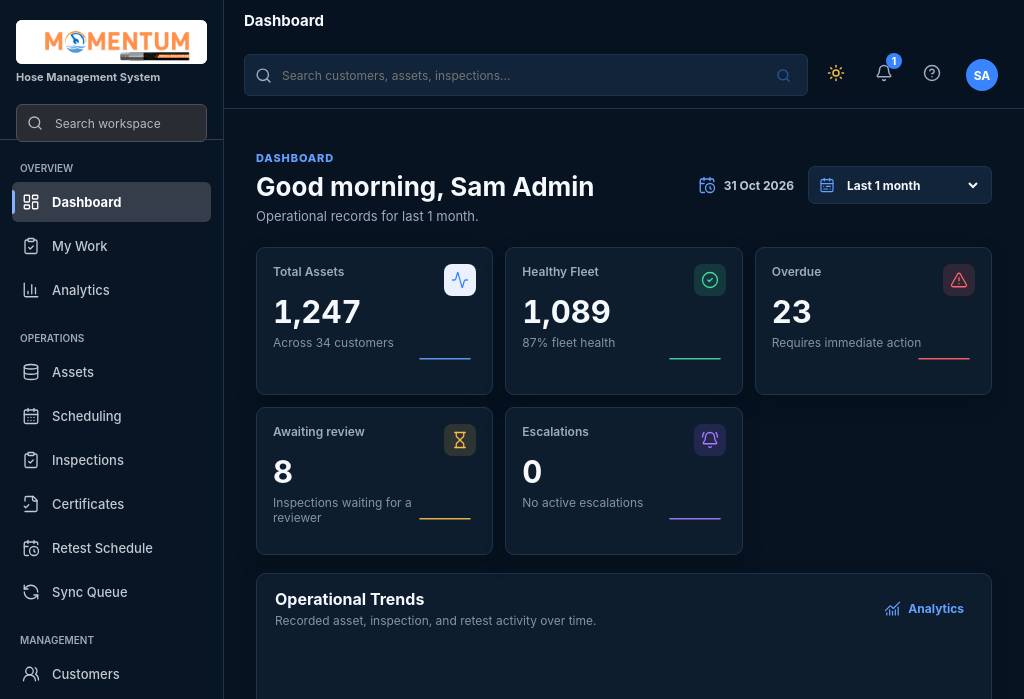
Test case: App › marks a selected notification read before opening its linked asset workspace
Click the button named "Notifications" at (884, 75), box [864,54,904,96]
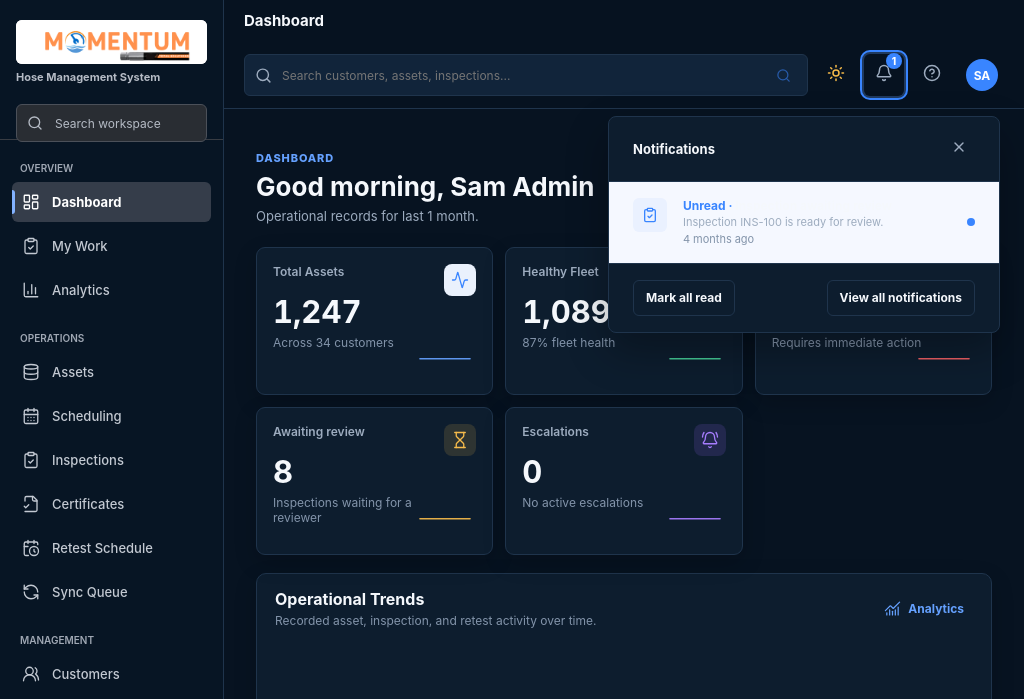
Click the button with aria-label "Open unread notification Inspection awaiting review" at (804, 222), box [609,182,999,263]
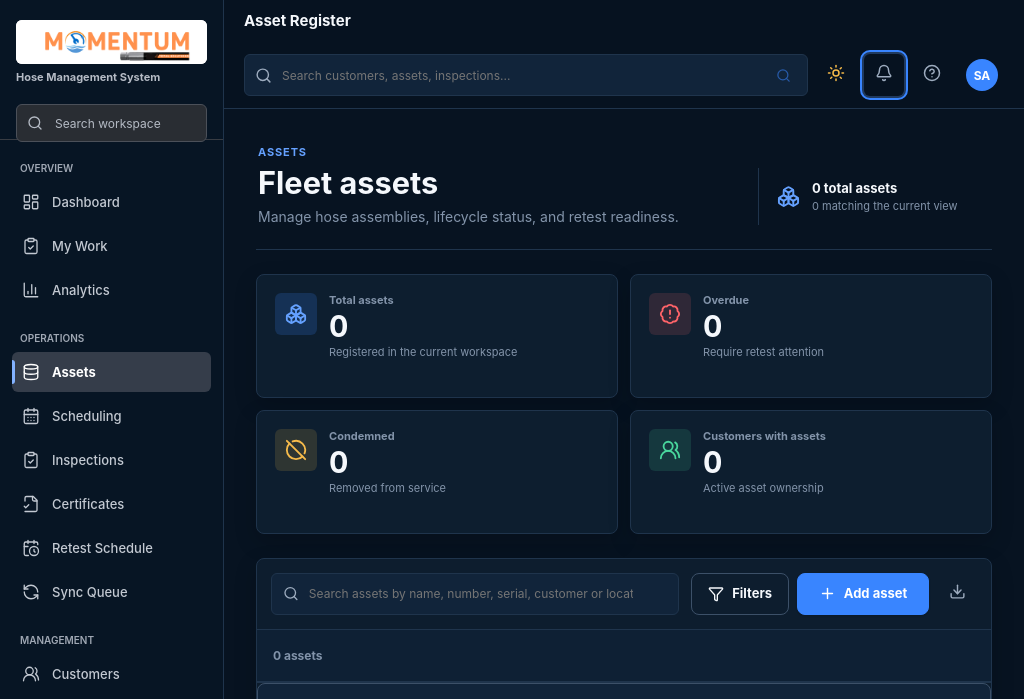
Expected: the button named "Notifications" does not show "1", [864,54,904,96]
Now the text "Notifications" is gone
Now the heading "Asset Register" is shown, box [244,11,351,30]
